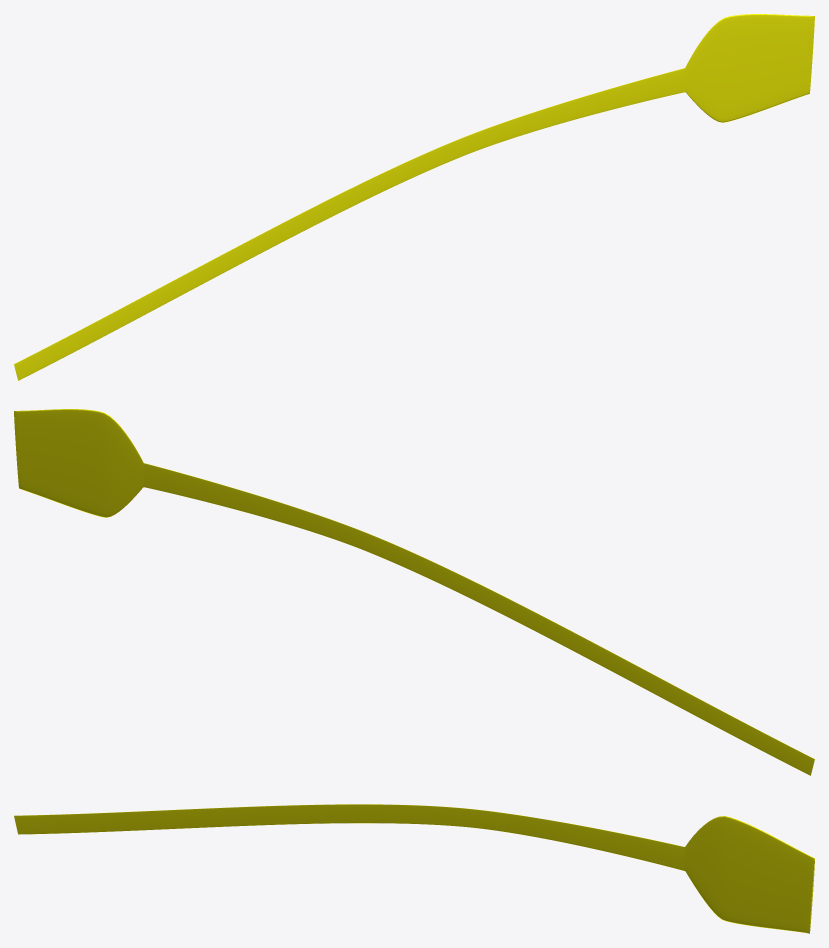
The model's file is Project.obj.
3 renders of one model, top to bottom at view 1: azimuth 30°, elevation 25°; view 2: azimuth 150°, elevation 25°; view 3: azimuth 330°, elevation 25°, orthographic.
Visible parts, largest first — view 1: Main; view 2: Main; view 3: Main.
Boxes of the visible parts, bbox=[...] form: Main: bbox=[14, 14, 814, 380]; Main: bbox=[14, 409, 814, 775]; Main: bbox=[14, 804, 814, 933].
Bounding box in the file's own units: 0.4885 × 0.1113 × 0.00126.
1 material, 1 textured.
